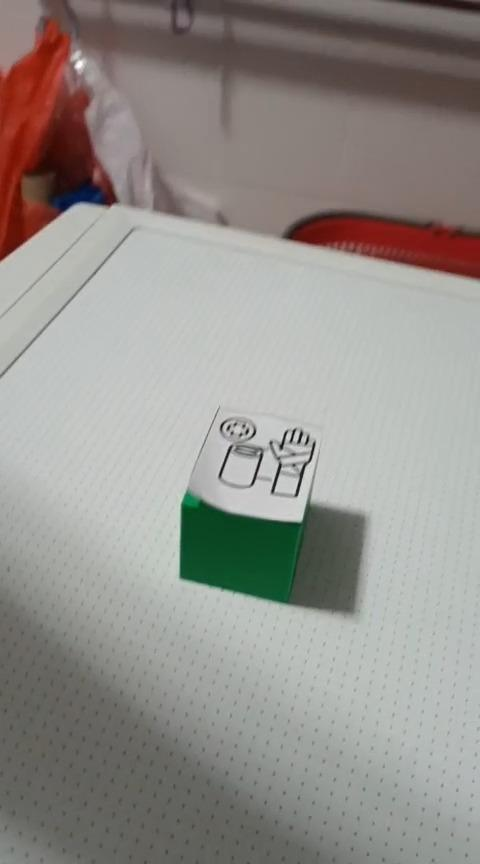Bandages: (177, 405, 324, 603)
